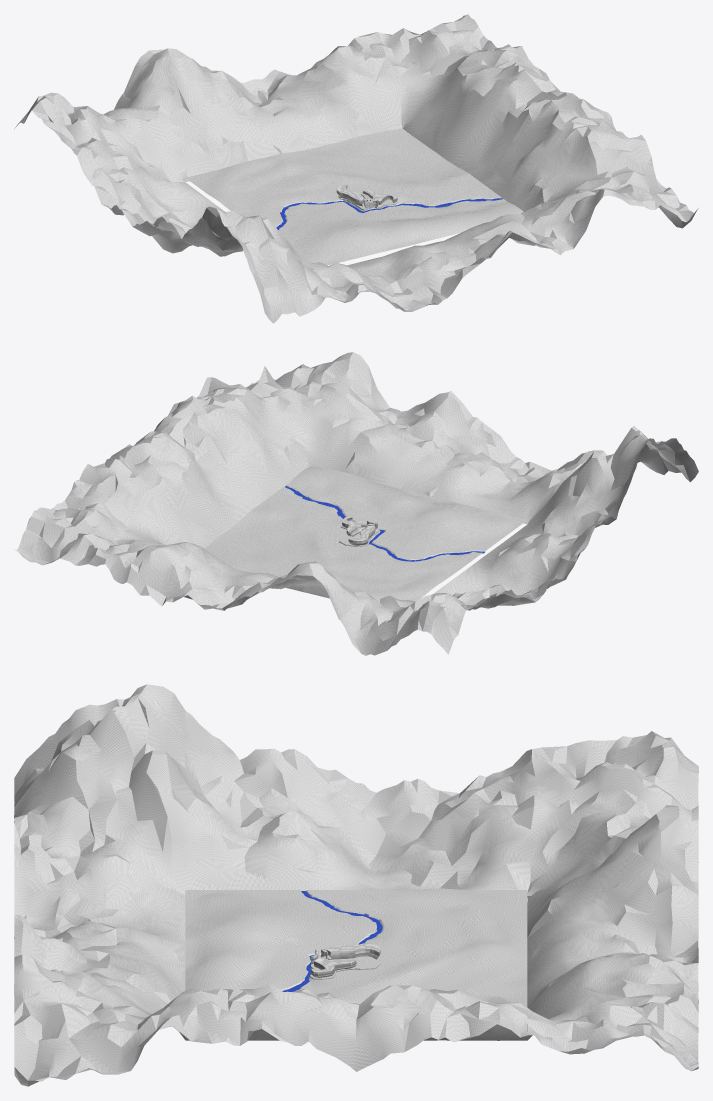
Rendered from TerrainPH01.fbx.
3 views of the same model, one above another, from view 1: azimuth 30°, elevation 25°; view 2: azimuth 150°, elevation 25°; view 3: azimuth 270°, elevation 25° (orthographic). The views are drawn at different scales.
Visible parts, largest first — view 1: Montains, Landscape, HigherLand, River; view 2: Montains, Landscape, HigherLand, River; view 3: Montains, Landscape, HigherLand.
Boxes of the visible parts, bbox=[...] form: Montains: bbox=[14, 14, 698, 323]; Landscape: bbox=[186, 128, 523, 265]; HigherLand: bbox=[336, 184, 397, 208]; River: bbox=[276, 198, 502, 230]; Montains: bbox=[15, 352, 698, 655]; Landscape: bbox=[204, 466, 527, 601]; HigherLand: bbox=[342, 517, 377, 545]; River: bbox=[285, 486, 484, 561]; Montains: bbox=[14, 684, 698, 1086]; Landscape: bbox=[185, 888, 527, 1006]; HigherLand: bbox=[311, 943, 380, 977].
Bounding box in the file's own units: 200567 × 200227 × 50600.
